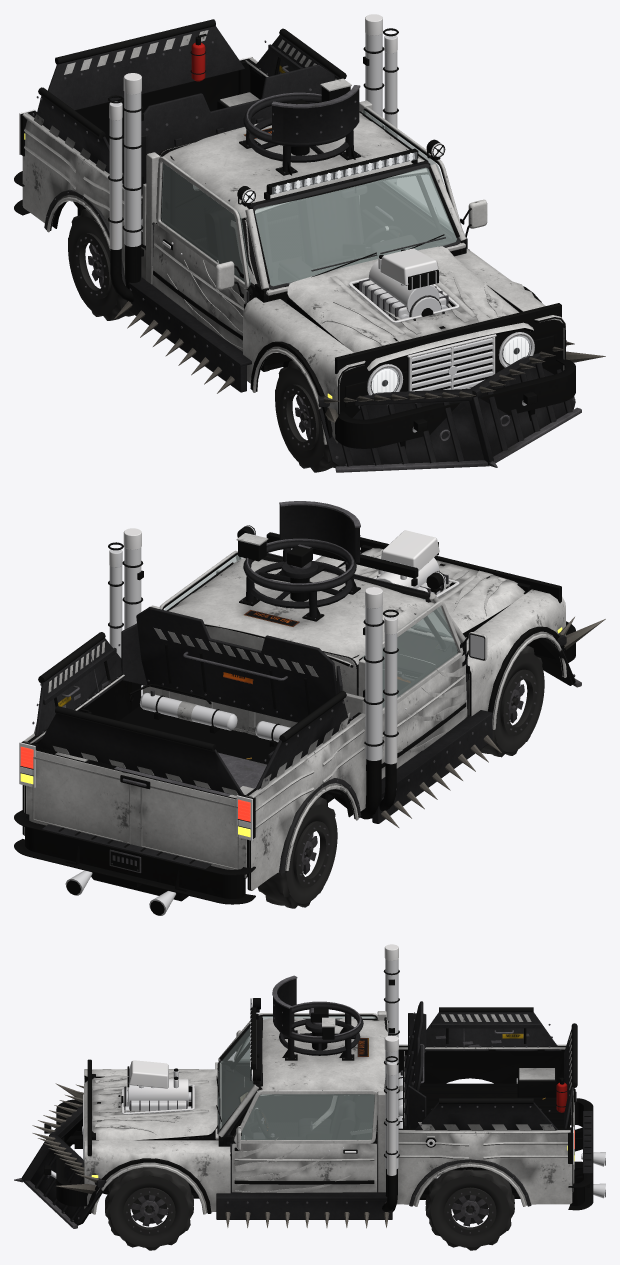
Rendered from truck_t4.glb.
The picture shows the model from 3 angles, top to bottom: view 1: azimuth 30°, elevation 25°; view 2: azimuth 150°, elevation 25°; view 3: azimuth 270°, elevation 25°; orthographic projection. The views are drawn at different scales.
Visible parts, largest first — view 1: body, panel_bumper_F, panel_door_R, panel_hood, panel_fender_R, panel_armor_skirt_R, wheel_RR, wheel_FR, panel_door_L, panel_tailgate, panel_fender_L, lamp_head_L (+1 smaller); view 2: body, panel_tailgate, panel_door_R, panel_bumper_R, panel_fender_R, panel_armor_skirt_R, wheel_RR, panel_hood, wheel_FR, panel_bumper_F, panel_door_L; view 3: body, panel_door_L, panel_fender_L, panel_hood, wheel_FL, wheel_RL, panel_bumper_F, panel_armor_skirt_L, panel_bumper_R, panel_door_R, panel_fender_R.
Part boxes in pixels (left/top/right/bottom): body: left=19, top=14, right=561, bottom=448; panel_bumper_F: left=318, top=340, right=605, bottom=472; panel_door_R: left=152, top=156, right=252, bottom=351; panel_hood: left=287, top=246, right=533, bottom=371; panel_fender_R: left=243, top=297, right=365, bottom=444; panel_armor_skirt_R: left=114, top=277, right=251, bottom=393; wheel_RR: left=68, top=209, right=145, bottom=320; wheel_FR: left=275, top=360, right=337, bottom=472; panel_door_L: left=362, top=106, right=487, bottom=249; panel_tailgate: left=75, top=71, right=238, bottom=141; panel_fender_L: left=454, top=249, right=565, bottom=371; lamp_head_L: left=502, top=335, right=530, bottom=365; body: left=19, top=501, right=561, bottom=915; panel_tailgate: left=26, top=750, right=247, bottom=879; panel_door_R: left=362, top=600, right=487, bottom=778; panel_bumper_R: left=14, top=810, right=255, bottom=904; panel_fender_R: left=466, top=589, right=568, bottom=729; panel_armor_skirt_R: left=372, top=710, right=501, bottom=827; wheel_RR: left=257, top=797, right=337, bottom=908; panel_hood: left=338, top=548, right=524, bottom=633; wheel_FR: left=467, top=645, right=544, bottom=757; panel_bumper_F: left=535, top=617, right=605, bottom=687; panel_door_L: left=159, top=550, right=241, bottom=610; body: left=70, top=944, right=605, bottom=1211; panel_door_L: left=230, top=1090, right=377, bottom=1192; panel_fender_L: left=84, top=1140, right=230, bottom=1214; panel_hood: left=84, top=1068, right=217, bottom=1145; wheel_FL: left=105, top=1167, right=193, bottom=1250; wheel_RL: left=425, top=1169, right=514, bottom=1250; panel_bumper_F: left=14, top=1083, right=106, bottom=1228; panel_armor_skirt_L: left=216, top=1192, right=392, bottom=1228; panel_bumper_R: left=568, top=1098, right=593, bottom=1210; panel_door_R: left=233, top=1013, right=378, bottom=1064; panel_fender_R: left=84, top=1069, right=213, bottom=1082.
Bounding box in the file's own units: 2.9 × 2.7 × 6.64.
20 materials, 12 textured.
